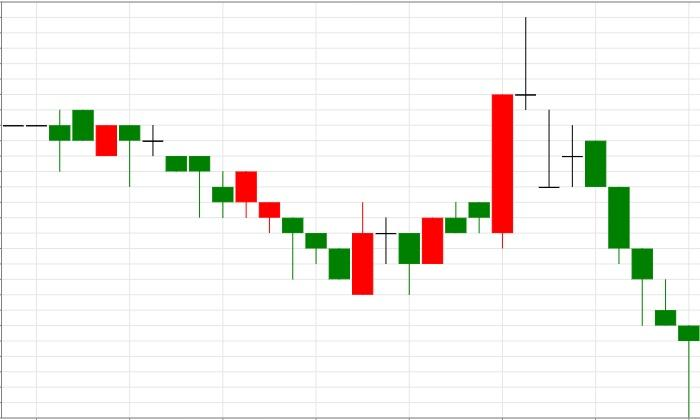bullish_engulfing_rise: (72, 109, 374, 295)
